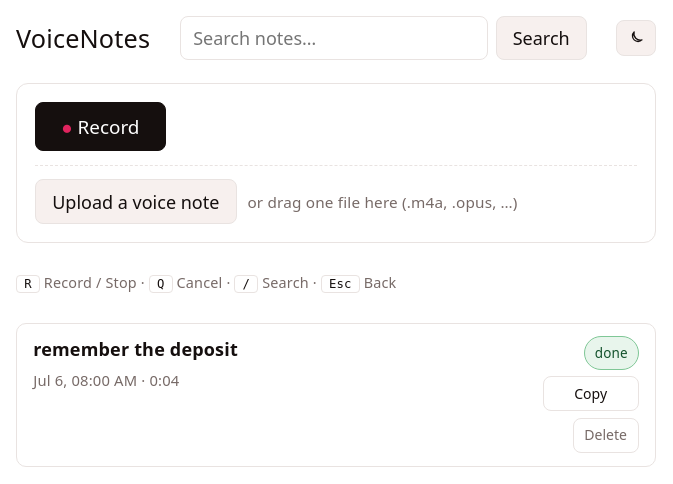
Q on a long take opens the discard confirm; Keep recording gets focus (AE2)
Type keys "r"
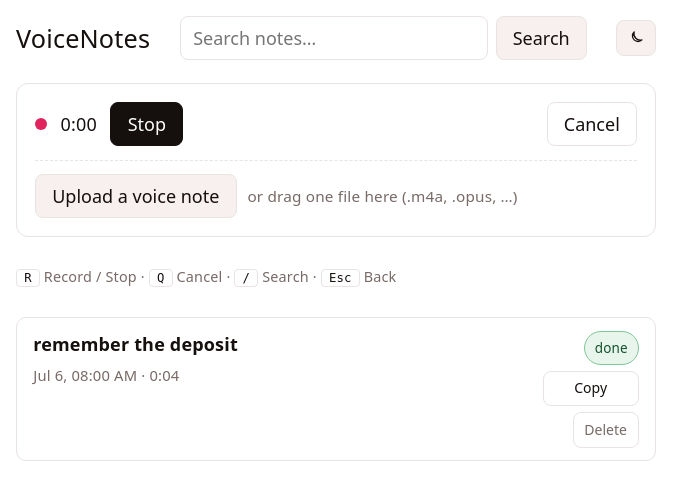
Check: the button "Stop" is shown, box [110, 102, 183, 146]
Type keys "q"
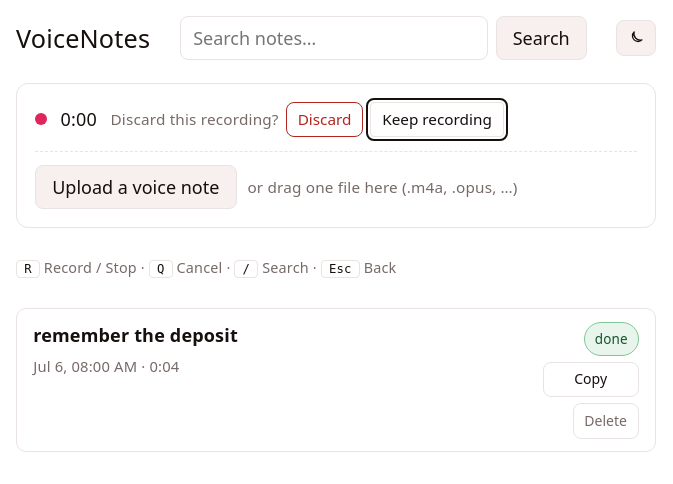
Check: the text "Discard this recording?" is shown, box [110, 106, 279, 132]
// Confirming it's still the same take: Keep recording returns to Stop, not Record.
Click the button "Keep recording".
click(437, 119)  # box [370, 102, 504, 137]
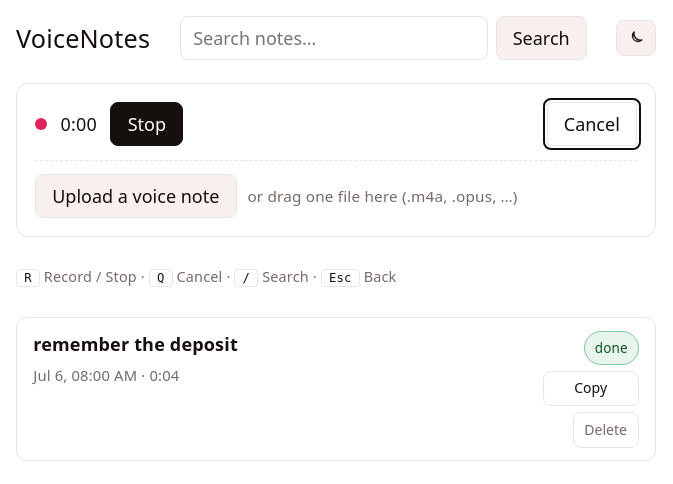
Check: the button "Stop" is shown, box [110, 102, 183, 146]
